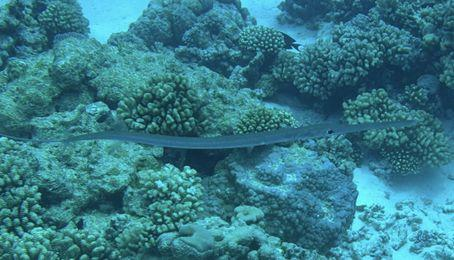Fistularia commersonii: (48, 89, 448, 179)
